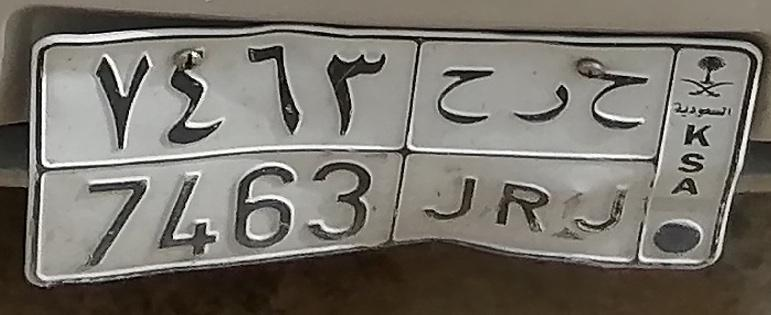3: (309, 48, 393, 243)
4: (154, 49, 223, 256)
6: (230, 36, 310, 253)
7: (77, 53, 156, 270)
J: (573, 70, 653, 239), (419, 63, 494, 234)
R: (491, 81, 572, 243)
